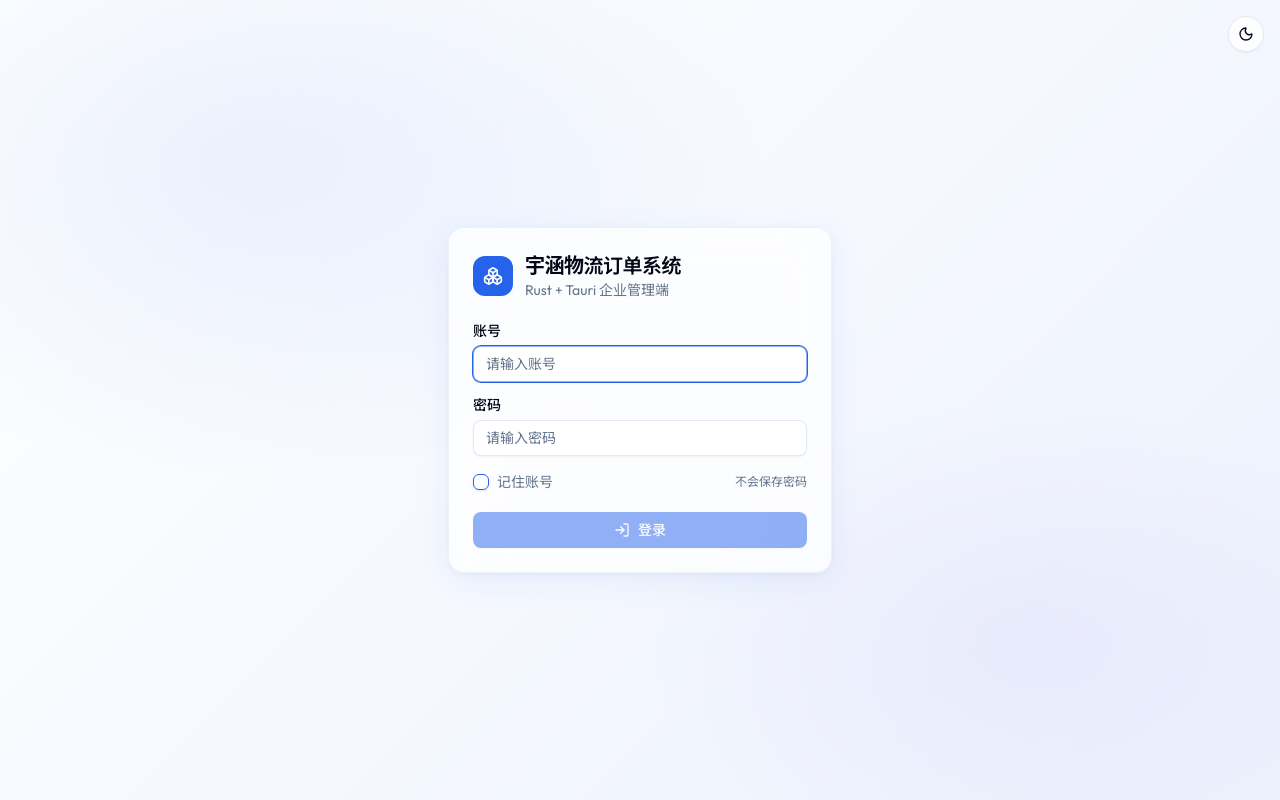
Scenario: Login › renders API errors without writing password anywhere else
Type "admin" into the field labelled "账号" at (640, 364), box [473,346,807,382]
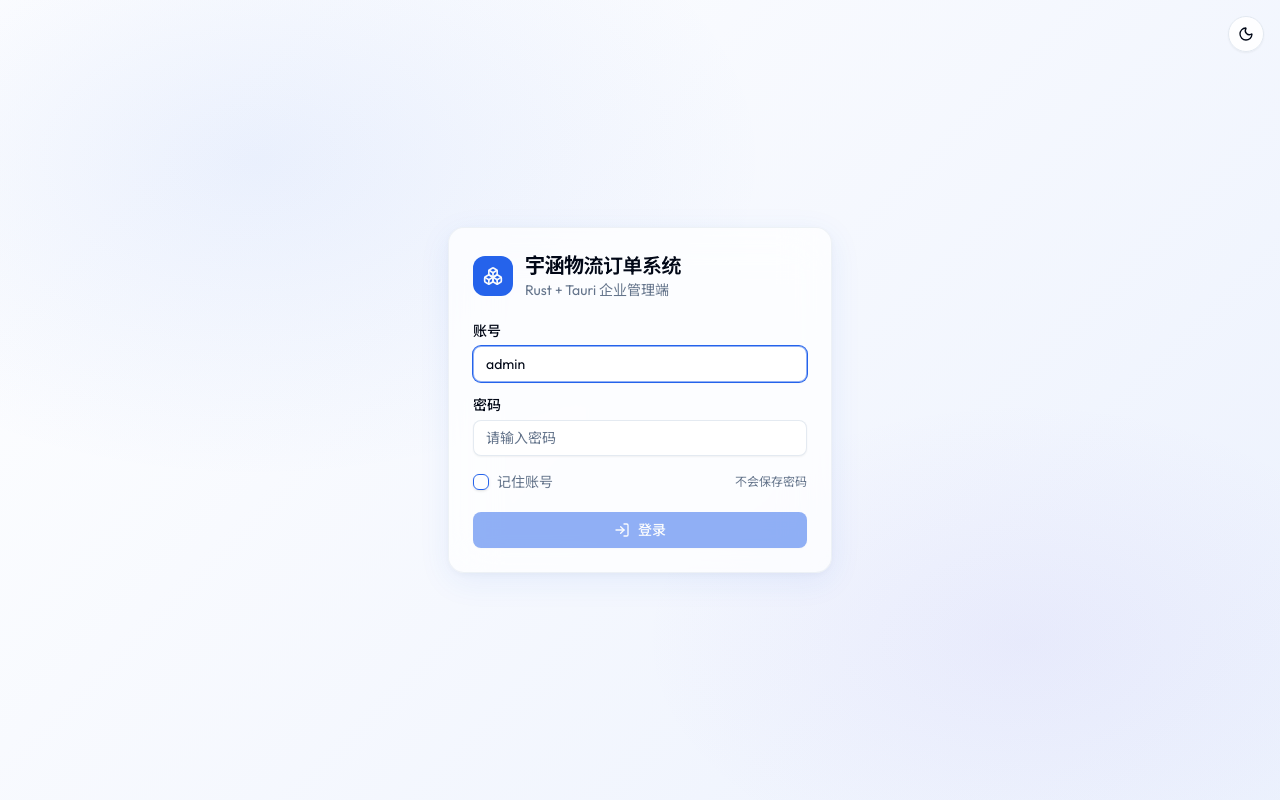
Type "wrong" into the password field labelled "密码" at (640, 438), box [473,420,807,456]
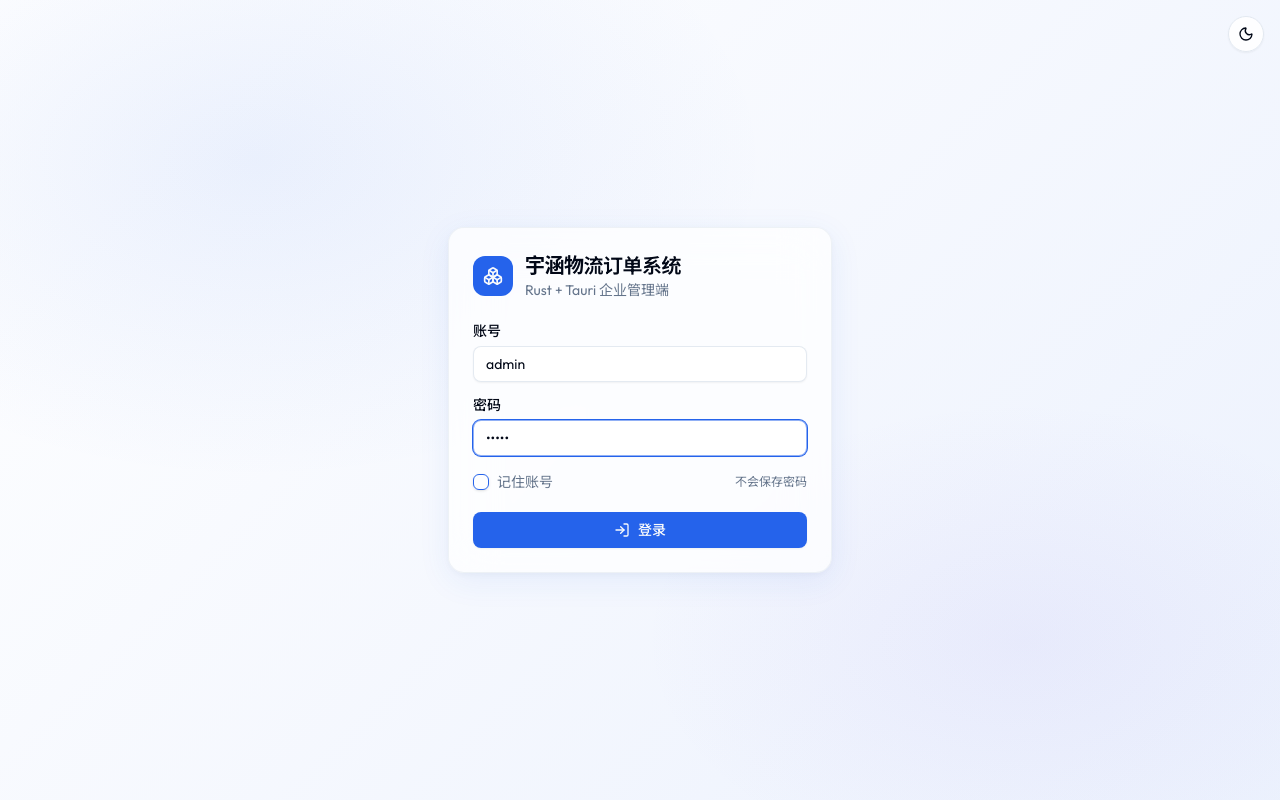
Click the button "登录" at (640, 530), box [473,512,807,548]
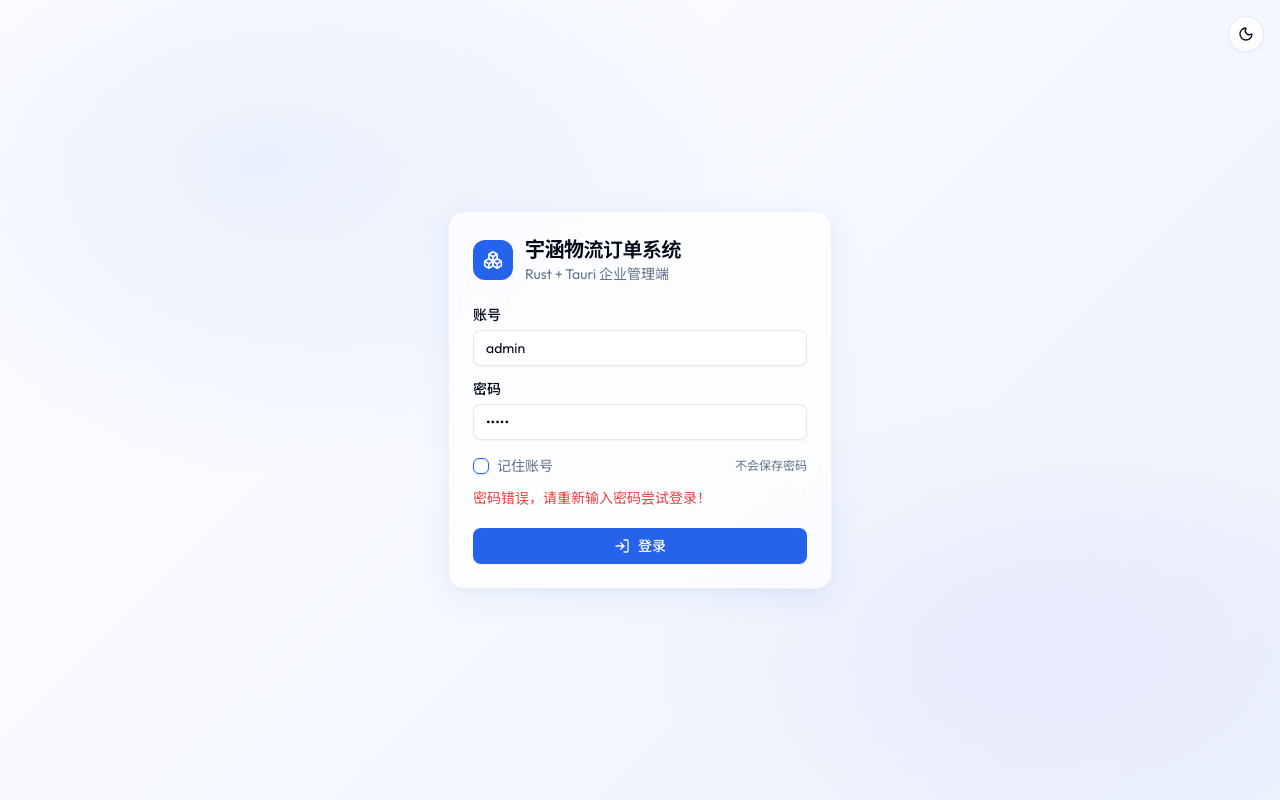
Check: the text "密码错误，请重新输入密码尝试登录！" is shown, box [473,489,711,507]
